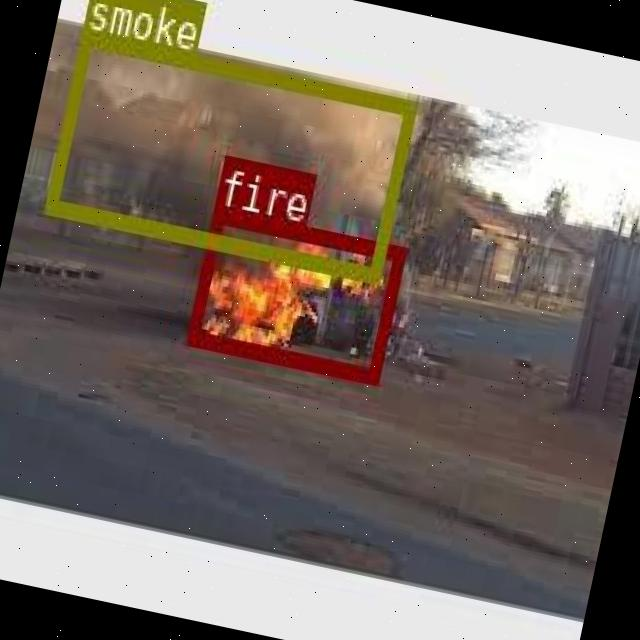fire: (185, 204, 404, 378)
smoke: (42, 27, 416, 279)
